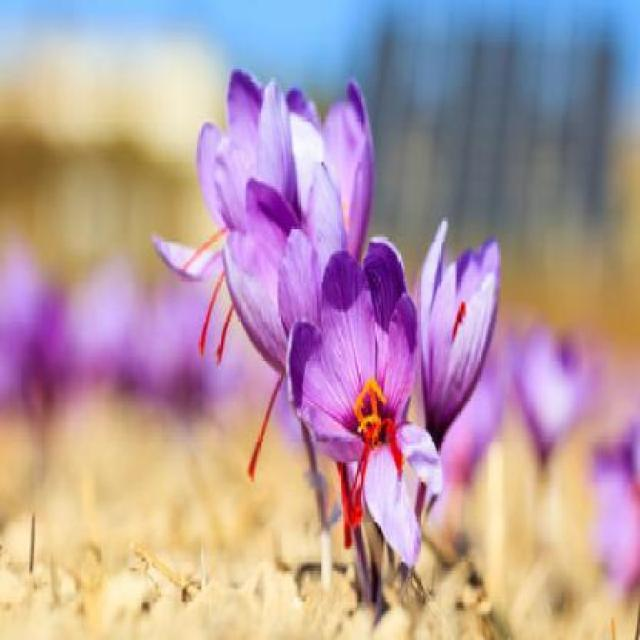Flower: (278, 252, 424, 566), (208, 184, 383, 418), (417, 223, 503, 452)
stigma: (245, 377, 284, 482), (350, 424, 382, 526), (194, 268, 229, 355), (325, 462, 355, 548), (380, 411, 406, 480), (214, 297, 239, 366)
